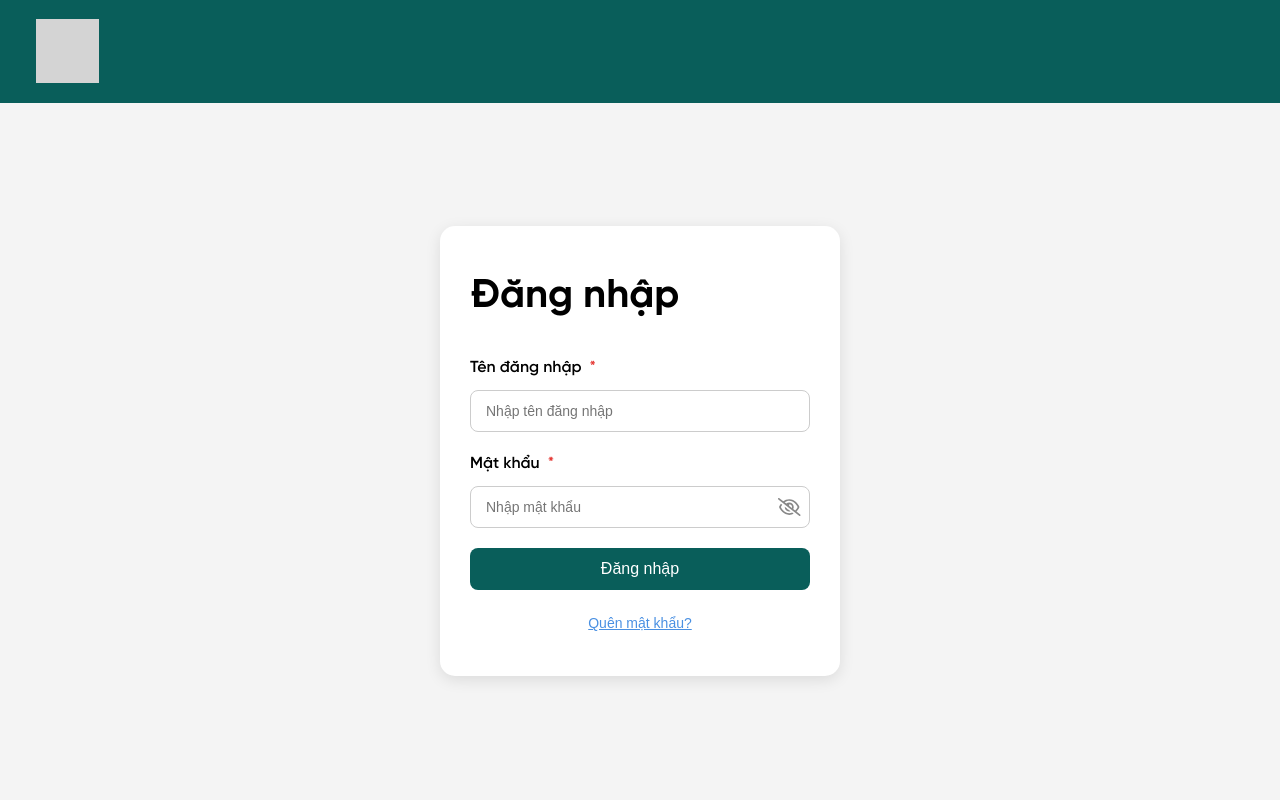
Test: LoginPage › displays loading state during form submission
Type "testuser" into the field with placeholder "Nhập tên đăng nhập". click: (640,411)
box: x1=470 y1=390 x2=810 y2=432
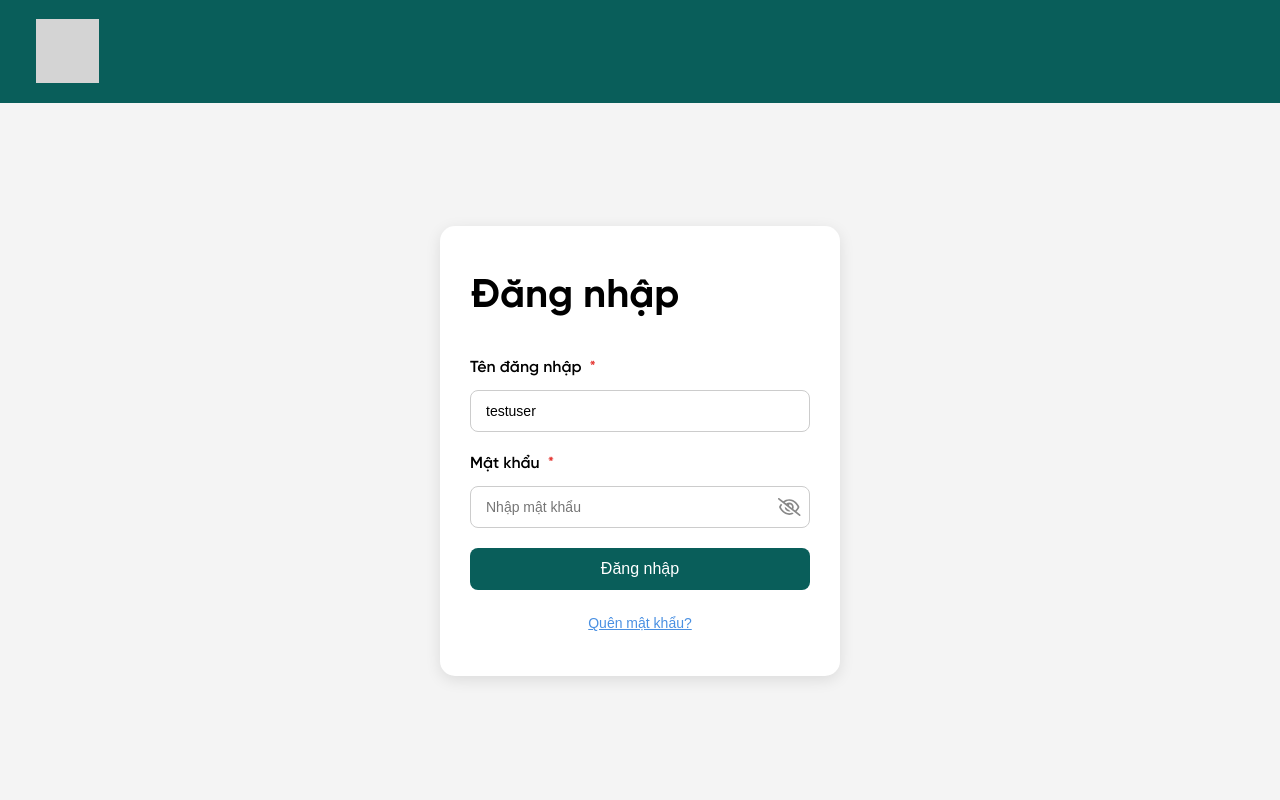
Type "password123" into the password field with placeholder "Nhập mật khẩu". click: (640,507)
box: x1=470 y1=486 x2=810 y2=528
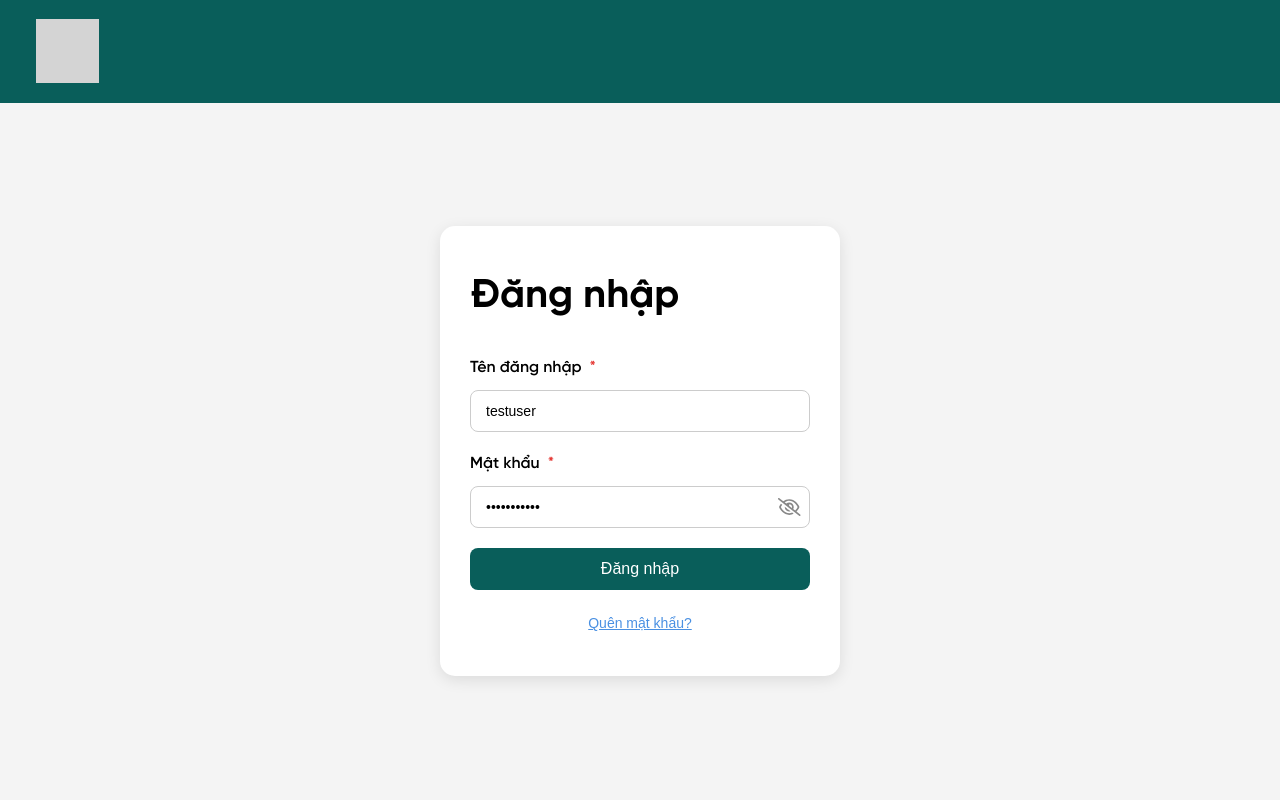
Click the button "Đăng nhập". click: (640,569)
box: x1=470 y1=548 x2=810 y2=590
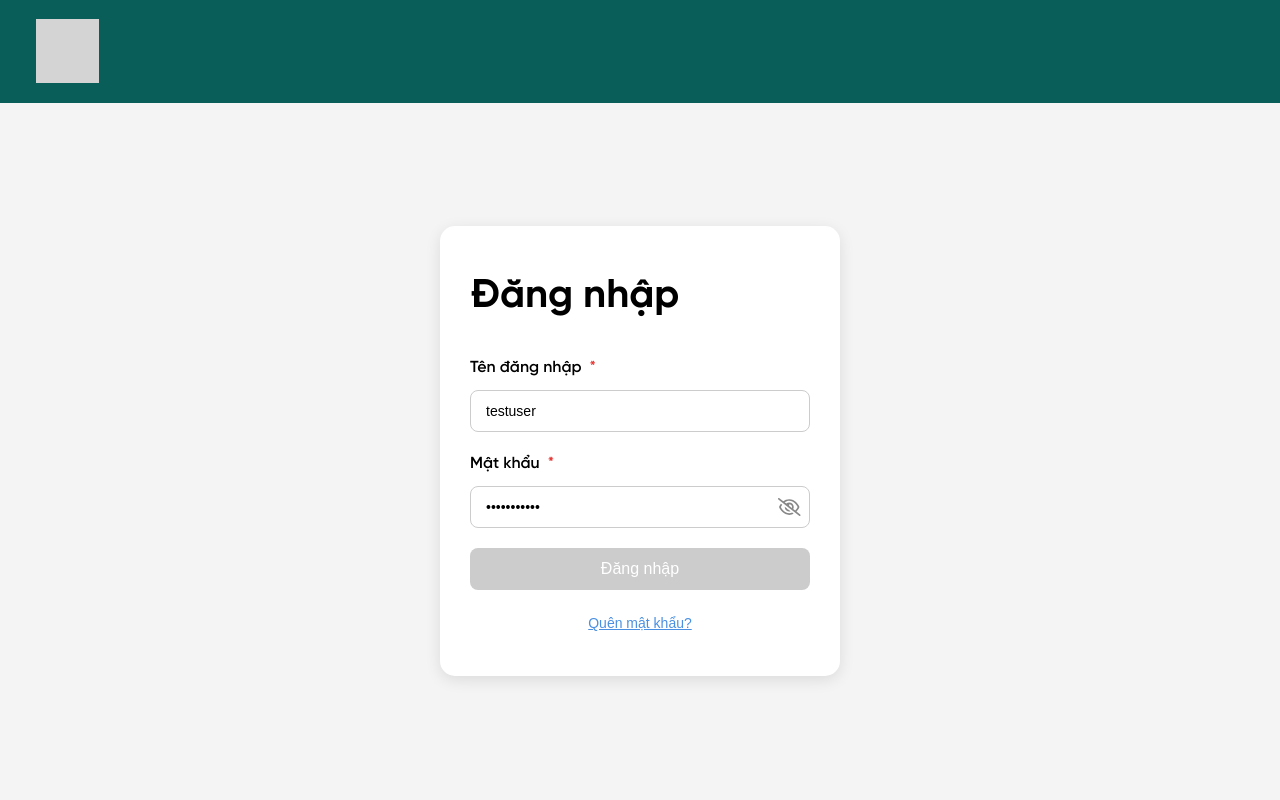
Result: the button "Đăng nhập" is disabled at x1=470 y1=548 x2=810 y2=590
